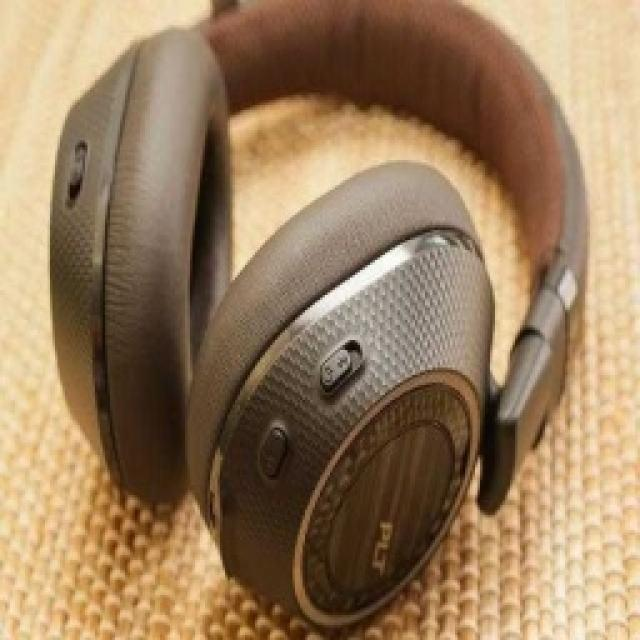headphones: (45, 0, 590, 632)
